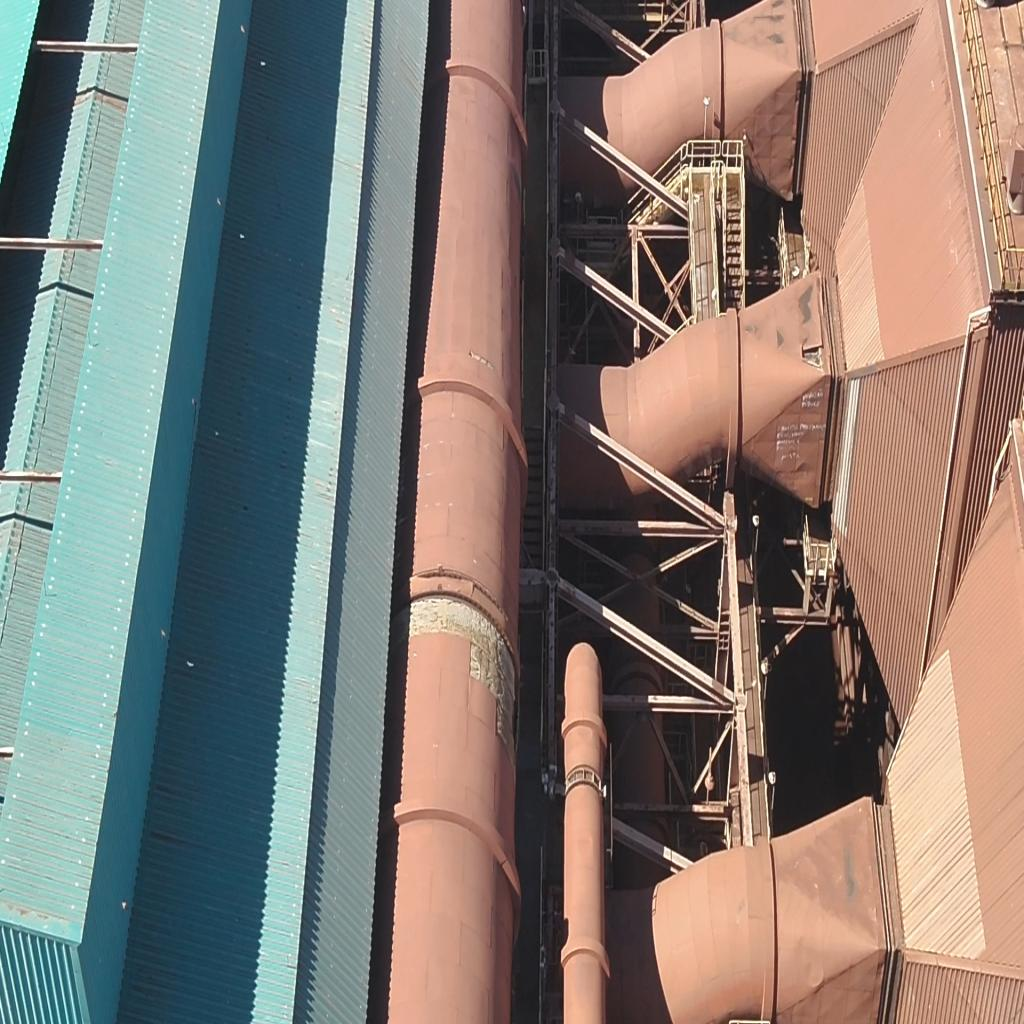Failures: (396, 574, 516, 752), (796, 334, 828, 380)
